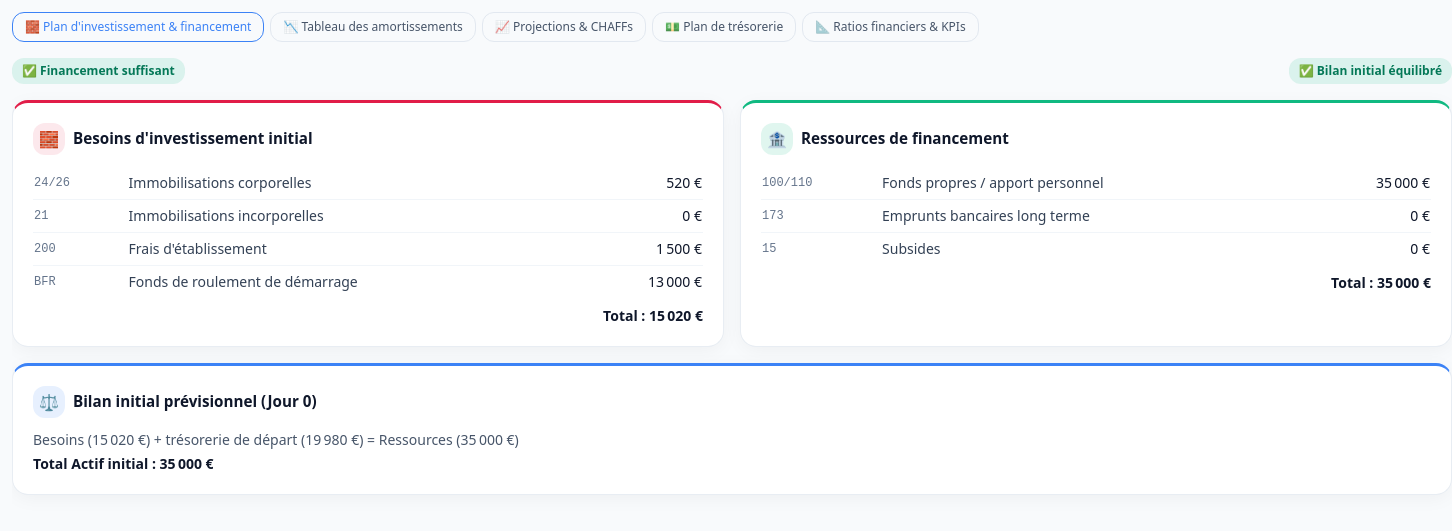
Test: TfeFeasibilityPanel / le tableau des amortissements › liste l'équipement acheté avec sa durée, son taux et sa dotation
This screenshot has width=1452, height=531.
Click the tab with test id "tfe-tab-depreciation": (373, 27) top-left (270, 12), bottom-right (476, 42)
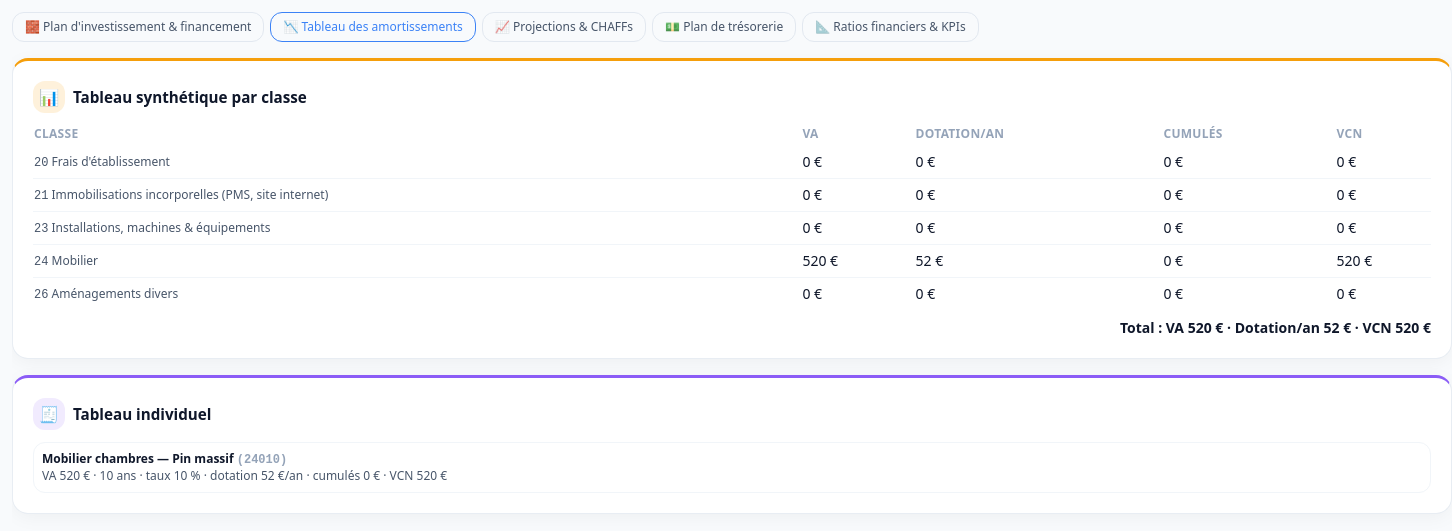
Now the row with test id "tfe-depreciation-class-24" shows "520", box top-left (802, 251), bottom-right (838, 270)
Now the text "10 ans · taux 10 %" is shown, box top-left (42, 467), bottom-right (447, 484)
